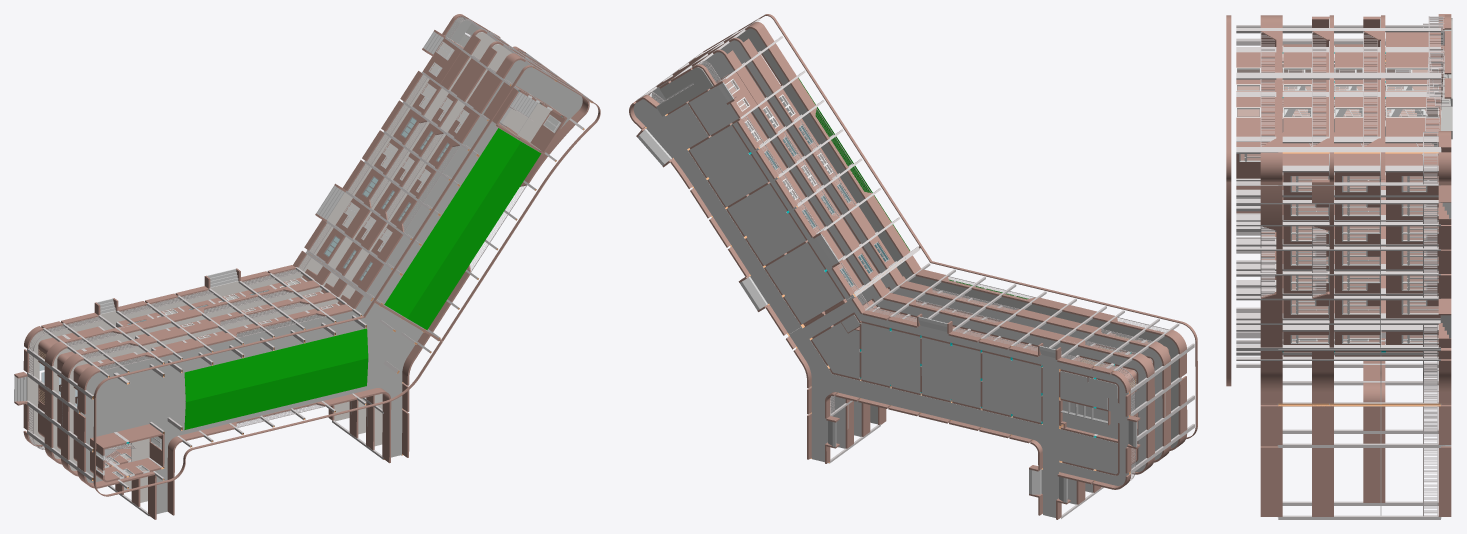
3 renders of one model, left to right at view 1: azimuth 30°, elevation 25°; view 2: azimuth 150°, elevation 25°; view 3: azimuth 270°, elevation 25°, orthographic. The views are drawn at different scales.
Parts seen in each view (by area): view 1: IfcSlab:1Nt1aSWtTDyvSq3QlGoiEx:0, IfcSlab:1Nt1aSWtTDyvSq3QlGoiPp:0, IfcSlab:3GoRs1ivf6mh7fqZ88DgJK:0, IfcSlab:3GoRs1ivf6mh7fqZ88Dgf7:0, IfcSlab:3GoRs1ivf6mh7fqZC8Dgf7:0, IfcSlab:3GoRs1ivf6mh7fqZC8DgJK:0, IfcSlab:21sg$4aEP1Qh5xFakbBBxj:0, IfcSlab:3z7JtsNuD2jes_bVsoCF_A:0, IfcSlab:3z7JtsNuD2jes_bVsoC86K:0, IfcSlab:3z7JtsNuD2jes_bVsoCFz2:0, IfcSlab:3z7JtsNuD2jes_bVsoC826:0, IfcSlab:21sg$4aEP1Qh5xFakbBBwa:0 (+3 smaller); view 2: IfcSlab:21sg$4aEP1Qh5xFakbBBxj:1, IfcSlab:21sg$4aEP1Qh5xFakbBAG_:1, IfcSlab:3z7JtsNuD2jes_bVsoC86K:1, IfcSlab:21sg$4aEP1Qh5xFakbBNzV:1, IfcSlab:21sg$4aEP1Qh5xFakbBNuc:1, IfcSlab:21sg$4aEP1Qh5xFakbBNus:1, IfcSlab:21sg$4aEP1Qh5xFakbBNaW:1, IfcSlab:21sg$4aEP1Qh5xFakbBNwk:1, IfcSlab:21sg$4aEP1Qh5xFakbBNxe:1, IfcSlab:1Nt1aSWtTDyvSq3QlGoiEx:0, IfcSlab:3z7JtsNuD2jes_bVsoCF_A:1, IfcSlab:1Nt1aSWtTDyvSq3QlGoiPp:0 (+11 smaller); view 3: IfcWall:21sg$4aEP1Qh5xFakbBJ4j:0, IfcWall:3wQuSnXqb1b8Aluc3YCFA_:0, IfcWall:21sg$4aEP1Qh5xFakbBGFI:0, IfcWall:21sg$4aEP1Qh5xFakbBNB0:0, IfcWall:3wQuSnXqb1b8Aluc3YCE$R:0, IfcWall:1ZuR_VcRT6G9lCoF3c$SIT:0, IfcWall:1ZuR_VcRT6G9lCoF3c$UVp:0, IfcWall:21sg$4aEP1Qh5xFakbBGFL:0, IfcWall:21sg$4aEP1Qh5xFakbBNB3:0, IfcWall:21sg$4aEP1Qh5xFakbBJPt:0, IfcRailing:0M3MpqZO5COOMEpfTuS3pC:0, IfcWall:1ZuR_VcRT6G9lCoF3c$UHj:0 (+150 smaller).
Part boxes in pixels (x1=…): IfcSlab:1Nt1aSWtTDyvSq3QlGoiEx:0: x1=80, y1=296, x2=422, y2=513; IfcSlab:1Nt1aSWtTDyvSq3QlGoiPp:0: x1=366, y1=60, x2=582, y2=304; IfcSlab:3GoRs1ivf6mh7fqZ88DgJK:0: x1=384, y1=128, x2=520, y2=317; IfcSlab:3GoRs1ivf6mh7fqZ88Dgf7:0: x1=184, y1=328, x2=368, y2=402; IfcSlab:3GoRs1ivf6mh7fqZC8Dgf7:0: x1=184, y1=358, x2=368, y2=429; IfcSlab:3GoRs1ivf6mh7fqZC8DgJK:0: x1=407, y1=142, x2=541, y2=329; IfcSlab:21sg$4aEP1Qh5xFakbBBxj:0: x1=27, y1=254, x2=349, y2=444; IfcSlab:3z7JtsNuD2jes_bVsoCF_A:0: x1=69, y1=284, x2=382, y2=502; IfcSlab:3z7JtsNuD2jes_bVsoC86K:0: x1=53, y1=272, x2=366, y2=490; IfcSlab:3z7JtsNuD2jes_bVsoCFz2:0: x1=344, y1=44, x2=527, y2=281; IfcSlab:3z7JtsNuD2jes_bVsoC826:0: x1=328, y1=32, x2=495, y2=269; IfcSlab:21sg$4aEP1Qh5xFakbBBwa:0: x1=309, y1=74, x2=429, y2=255; IfcSlab:21sg$4aEP1Qh5xFakbBBxj:1: x1=789, y1=296, x2=1128, y2=517; IfcSlab:21sg$4aEP1Qh5xFakbBAG_:1: x1=633, y1=99, x2=801, y2=333; IfcSlab:3z7JtsNuD2jes_bVsoC86K:1: x1=830, y1=285, x2=1146, y2=504; IfcSlab:21sg$4aEP1Qh5xFakbBNzV:1: x1=982, y1=352, x2=1041, y2=422; IfcSlab:21sg$4aEP1Qh5xFakbBNuc:1: x1=861, y1=322, x2=920, y2=393; IfcSlab:21sg$4aEP1Qh5xFakbBNus:1: x1=921, y1=337, x2=980, y2=408; IfcSlab:21sg$4aEP1Qh5xFakbBNaW:1: x1=689, y1=125, x2=768, y2=206; IfcSlab:21sg$4aEP1Qh5xFakbBNwk:1: x1=765, y1=242, x2=843, y2=323; IfcSlab:21sg$4aEP1Qh5xFakbBNxe:1: x1=727, y1=184, x2=806, y2=265; IfcSlab:1Nt1aSWtTDyvSq3QlGoiEx:0: x1=870, y1=261, x2=1178, y2=448; IfcSlab:3z7JtsNuD2jes_bVsoCF_A:1: x1=854, y1=273, x2=1165, y2=492; IfcSlab:1Nt1aSWtTDyvSq3QlGoiPp:0: x1=736, y1=28, x2=902, y2=261; IfcWall:21sg$4aEP1Qh5xFakbBJ4j:0: x1=1386, y1=97, x2=1440, y2=136; IfcWall:3wQuSnXqb1b8Aluc3YCFA_:0: x1=1260, y1=446, x2=1282, y2=516; IfcWall:21sg$4aEP1Qh5xFakbBGFI:0: x1=1334, y1=97, x2=1380, y2=136; IfcWall:21sg$4aEP1Qh5xFakbBNB0:0: x1=1283, y1=97, x2=1328, y2=136; IfcWall:3wQuSnXqb1b8Aluc3YCE$R:0: x1=1312, y1=448, x2=1333, y2=516; IfcWall:1ZuR_VcRT6G9lCoF3c$SIT:0: x1=1363, y1=434, x2=1385, y2=502; IfcWall:1ZuR_VcRT6G9lCoF3c$UVp:0: x1=1236, y1=97, x2=1276, y2=136; IfcWall:21sg$4aEP1Qh5xFakbBGFL:0: x1=1334, y1=52, x2=1380, y2=91; IfcWall:21sg$4aEP1Qh5xFakbBNB3:0: x1=1283, y1=52, x2=1328, y2=91; IfcWall:21sg$4aEP1Qh5xFakbBJPt:0: x1=1386, y1=52, x2=1440, y2=91; IfcRailing:0M3MpqZO5COOMEpfTuS3pC:0: x1=1424, y1=49, x2=1451, y2=131; IfcWall:1ZuR_VcRT6G9lCoF3c$UHj:0: x1=1236, y1=52, x2=1276, y2=91.
Bounding box in the file's own units: 66.07 × 45.45 × 15.87.
